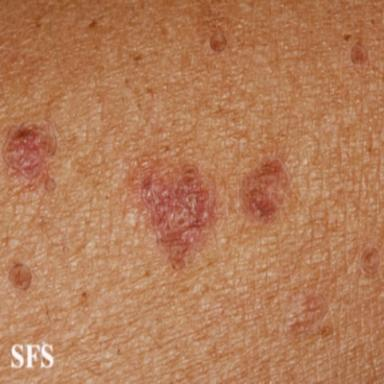Porokeratosis: (141, 164, 215, 269), (3, 121, 56, 192), (240, 156, 291, 222), (284, 291, 332, 337), (9, 263, 31, 290), (361, 247, 379, 276), (351, 44, 368, 65), (210, 32, 227, 52)
